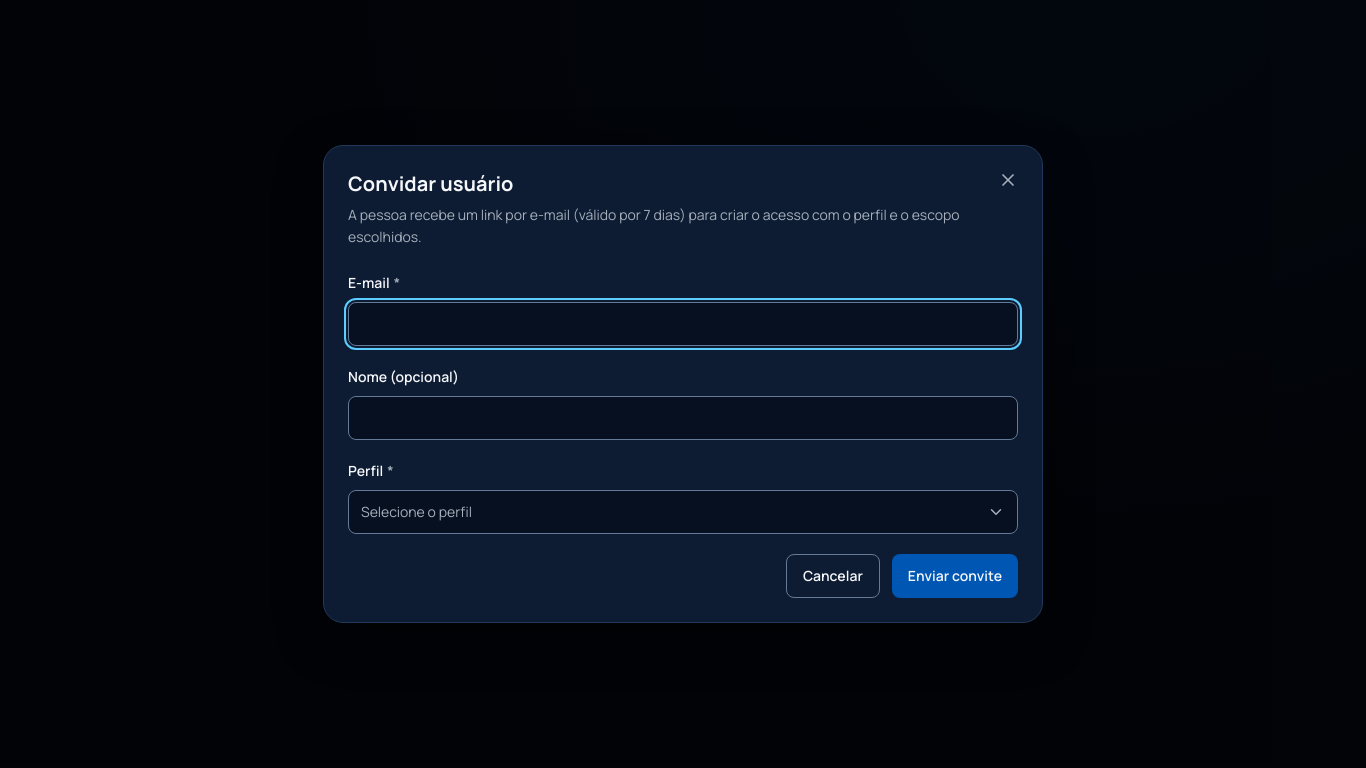
Test: Convite — erro de escalonamento › mostra o motivo do 403 ROLE_ESCALATION devolvido pelo servidor
Type "novo@exemplo.invalid" into the field labelled "E-mail*" at (683, 324), box [348,302,1018,346]
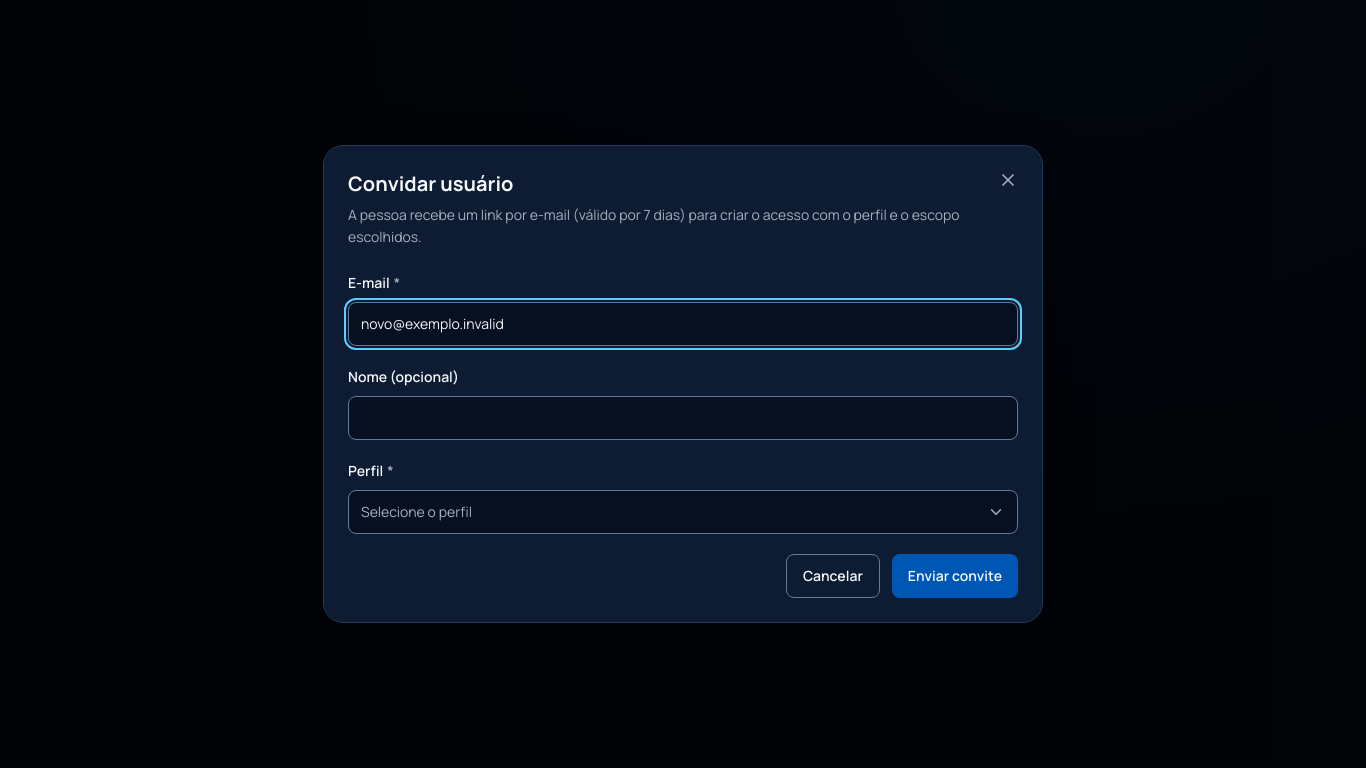
Click the dropdown labelled "Selecione o perfil" at (416, 512), box [348,490,1018,534]
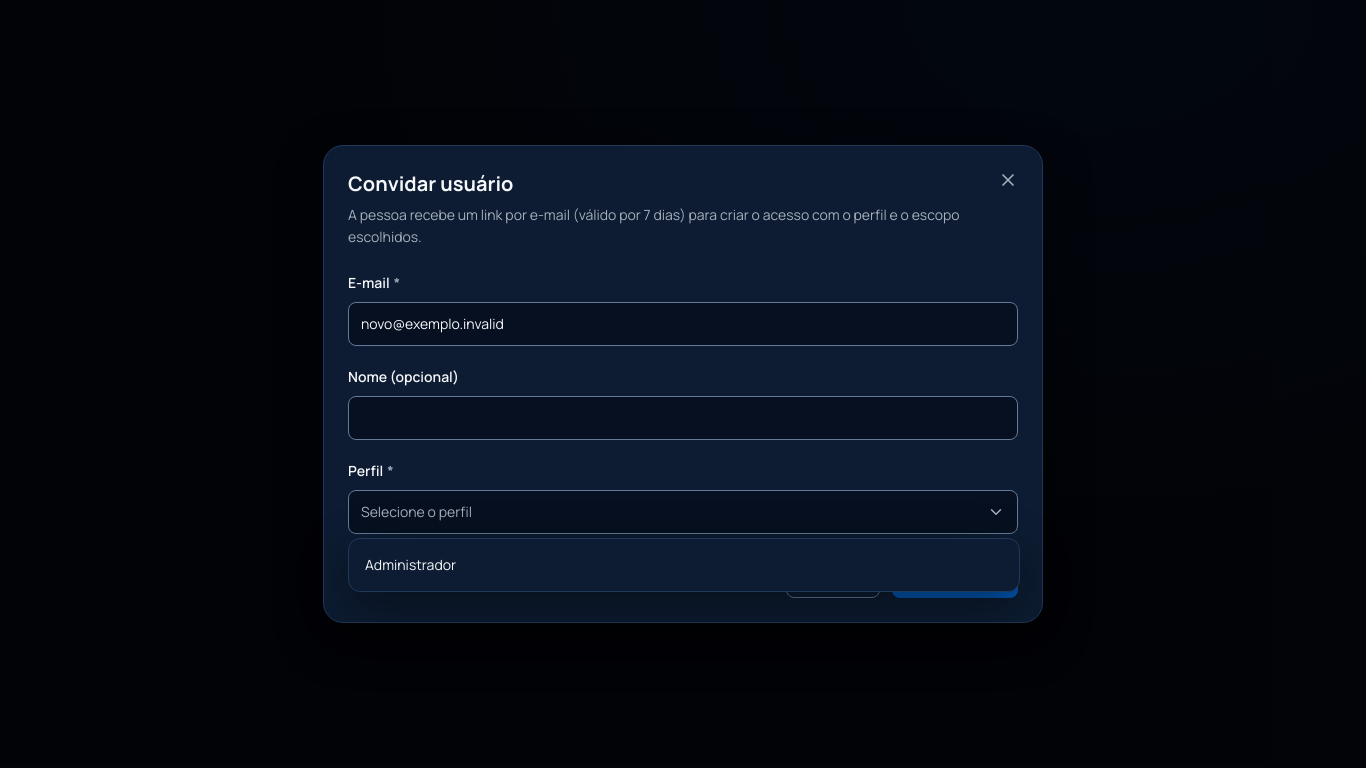
Click the option "Administrador" at (411, 564), box [353,543,1015,587]
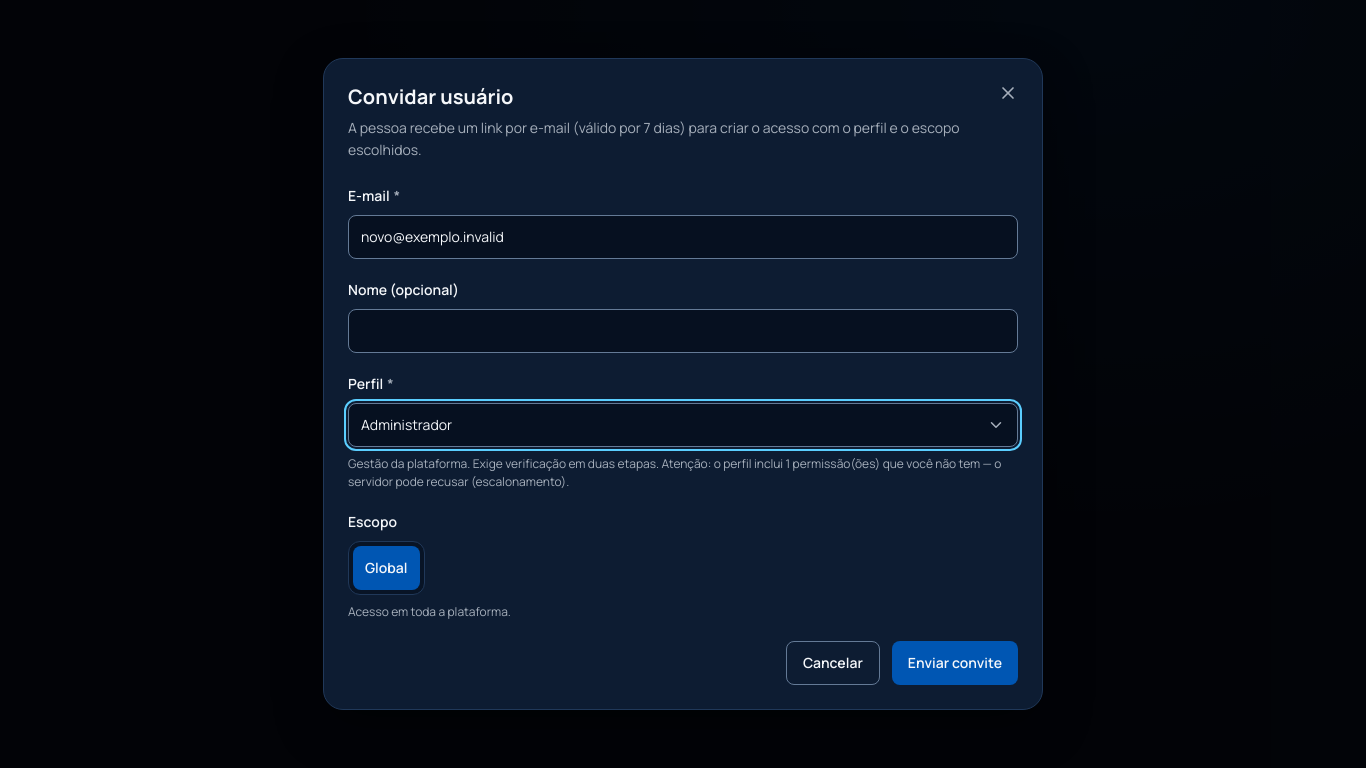
Click the button "Enviar convite" at (955, 663), box [892,641,1018,685]
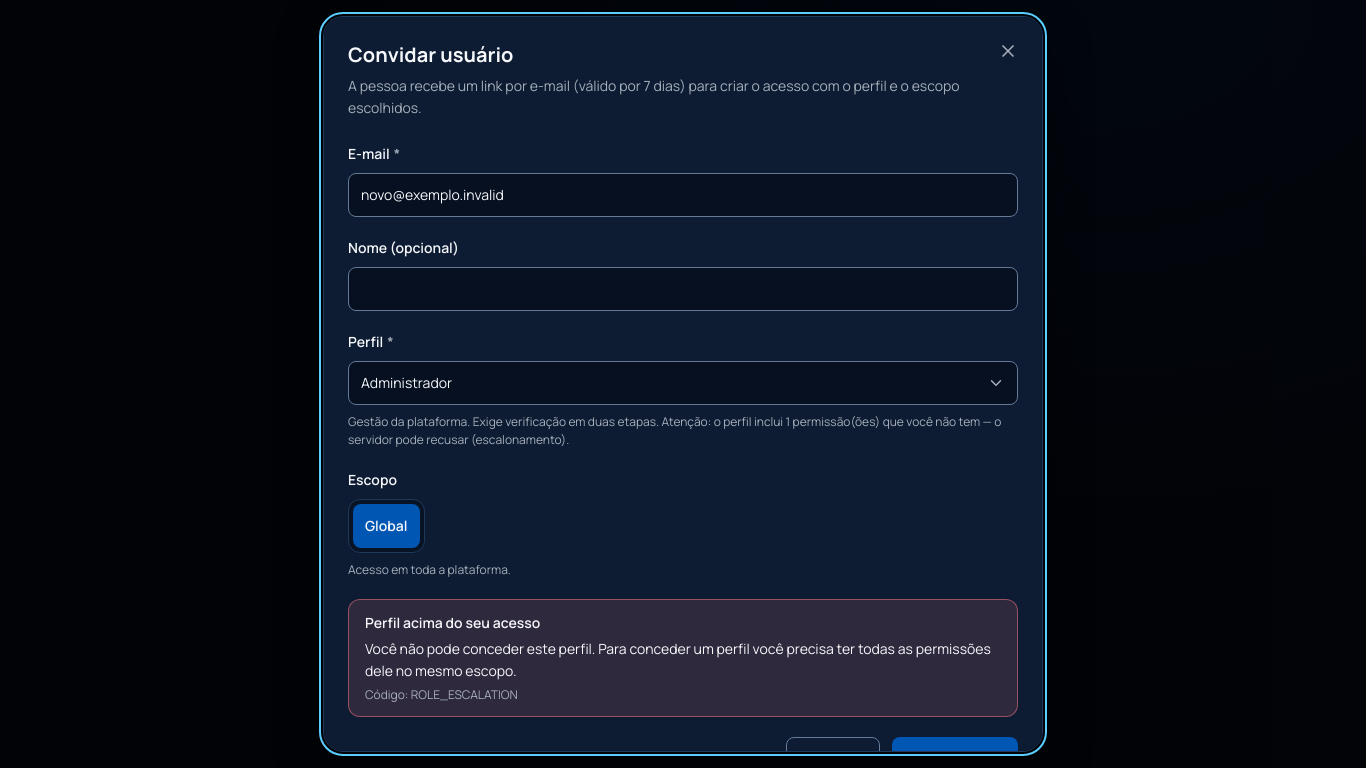
Result: the text "Perfil acima do seu acesso" is shown at [365,613,540,632]
Result: the text "Você não pode conceder este perfil." is shown at [365,639,991,680]
Result: the text "Código: ROLE_ESCALATION" is shown at [365,686,518,703]
